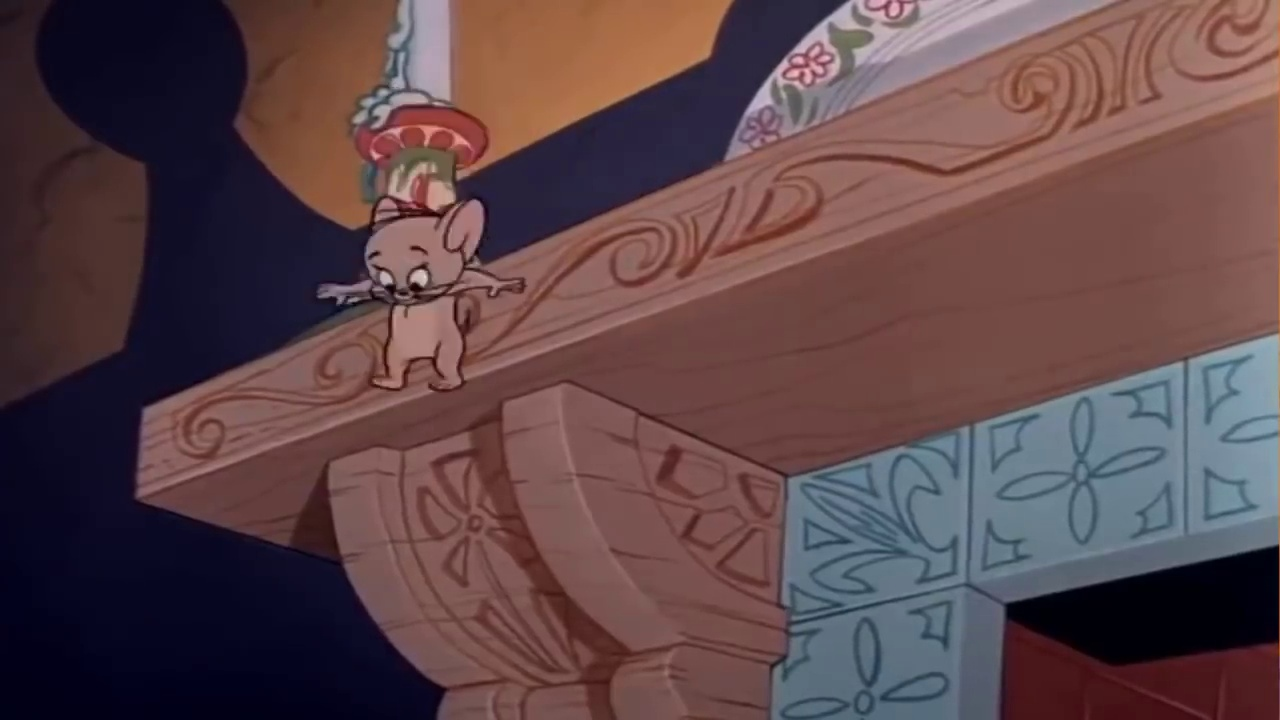face: (364, 232, 444, 307)
